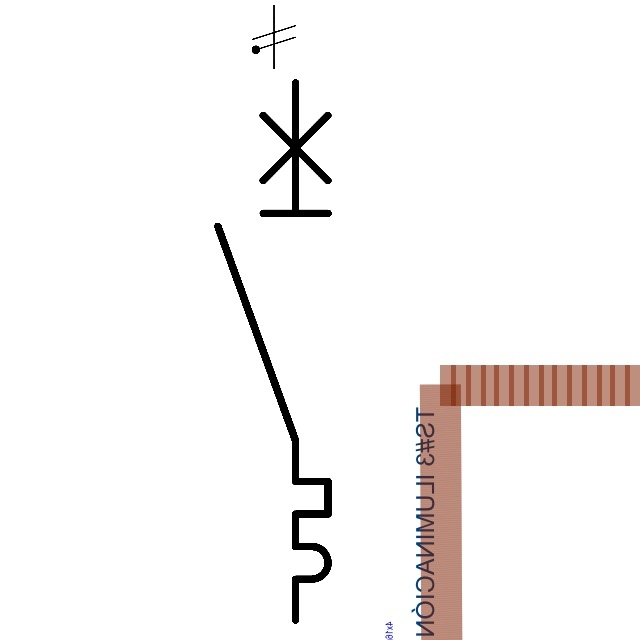interruptor_termomagnetico: (204, 68, 342, 633)
